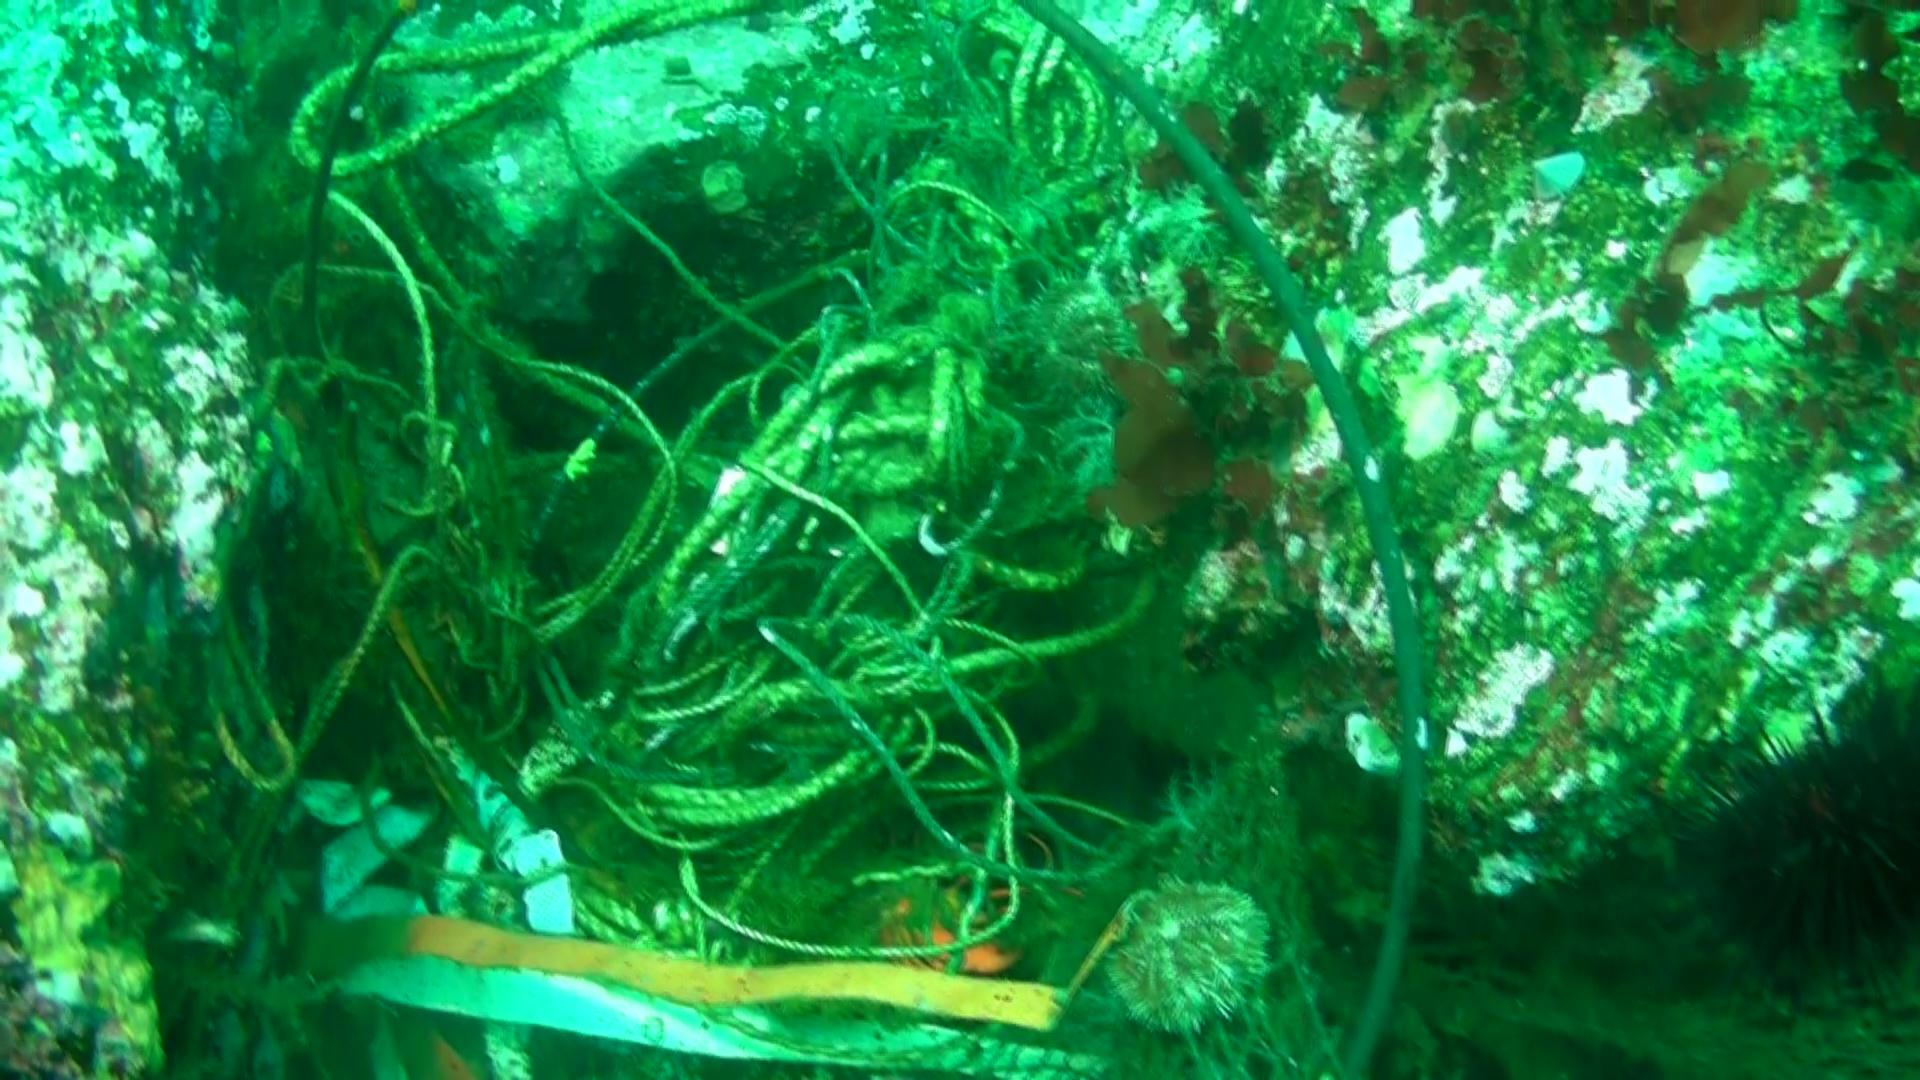bundle of ropes: (200, 0, 1158, 960)
